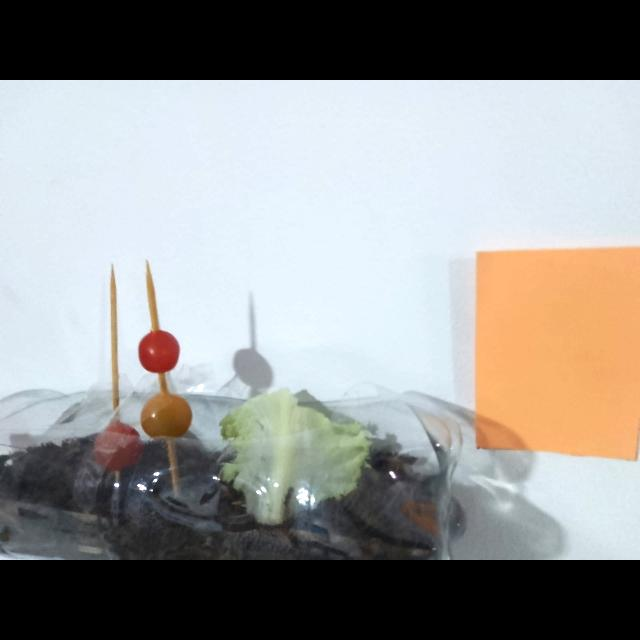card: (475, 247, 640, 460)
fruit_maturation: (93, 421, 143, 471), (140, 393, 192, 437)
fully_grown: (138, 330, 180, 374)
